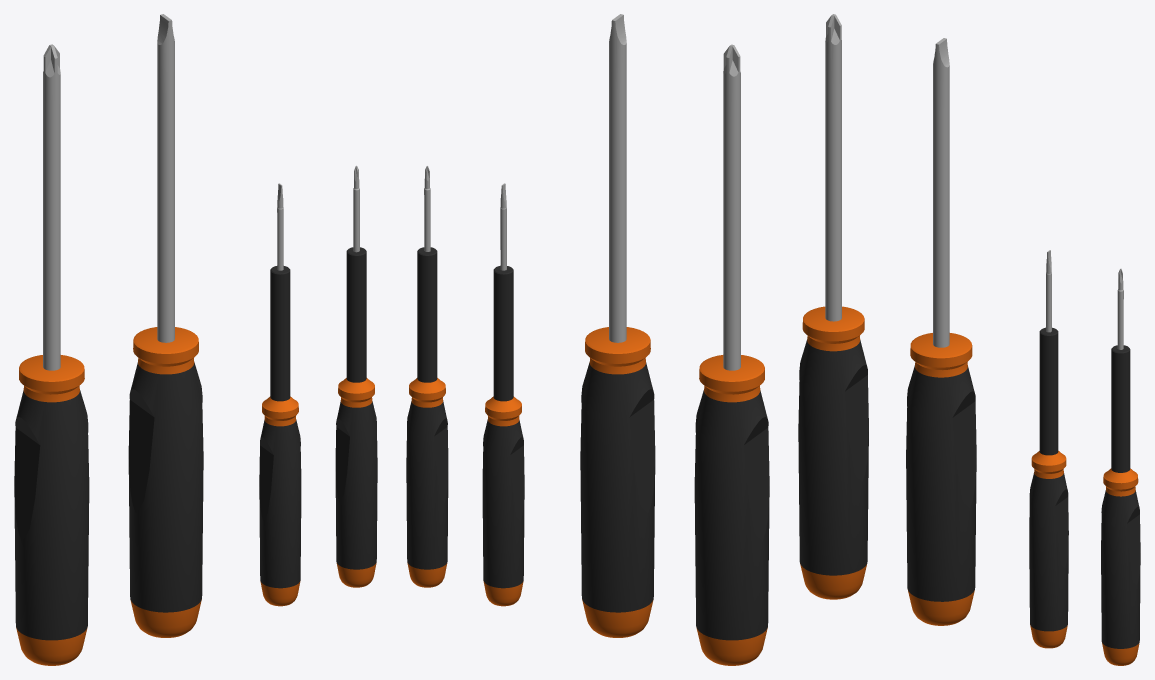
Rendered from screwdriver_set_1.5_-_0.5_mm.glb.
3 renders of one model, left to right at view 1: azimuth 30°, elevation 25°; view 2: azimuth 150°, elevation 25°; view 3: azimuth 330°, elevation 25°, orthographic. The views are drawn at different scales.
Parts seen in each view (by area): view 1: Flathead screwdriver_1, Philips screwdriver_0, Flathead screwdriver 3mm_2, Philips screwdriver 3mm_3; view 2: Flathead screwdriver_1, Philips screwdriver_0, Flathead screwdriver 3mm_2, Philips screwdriver 3mm_3; view 3: Flathead screwdriver_1, Philips screwdriver_0, Philips screwdriver 3mm_3, Flathead screwdriver 3mm_2.
Boxes of the visible parts, <box> form: Flathead screwdriver_1: <box>128,14,203,637</box>; Philips screwdriver_0: <box>14,44,89,665</box>; Flathead screwdriver 3mm_2: <box>259,183,301,606</box>; Philips screwdriver 3mm_3: <box>335,165,377,587</box>; Flathead screwdriver_1: <box>580,14,655,637</box>; Philips screwdriver_0: <box>694,44,769,665</box>; Flathead screwdriver 3mm_2: <box>482,183,524,606</box>; Philips screwdriver 3mm_3: <box>406,166,448,587</box>; Flathead screwdriver_1: <box>906,38,976,625</box>; Philips screwdriver_0: <box>798,14,868,599</box>; Philips screwdriver 3mm_3: <box>1101,268,1140,665</box>; Flathead screwdriver 3mm_2: <box>1029,250,1068,648</box>.
Size of the model in its own units: 0.0928 by 0.1535 by 0.0169.
